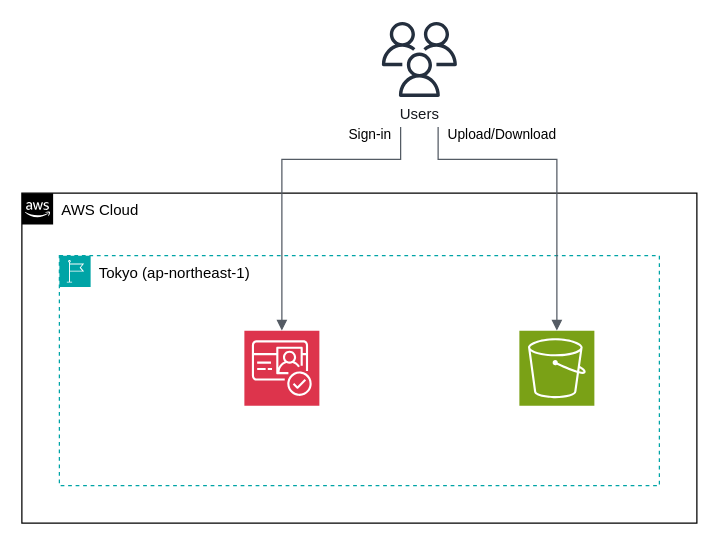
Image size: 719x545. Some labels were removed from this diagram. Each missing label, with the centre of its shape:
"Amazon Cognito" goes at (281,367).
"Amazon S3" goes at (556,367).
